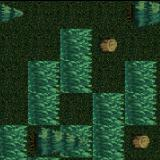Obstacle: (92, 28, 125, 60), (28, 125, 61, 156), (124, 125, 156, 156), (124, 1, 156, 28)
Slow: (59, 27, 92, 92), (93, 92, 124, 160), (28, 60, 60, 125), (125, 59, 156, 124), (61, 124, 92, 157), (0, 125, 27, 160), (0, 157, 60, 160)
